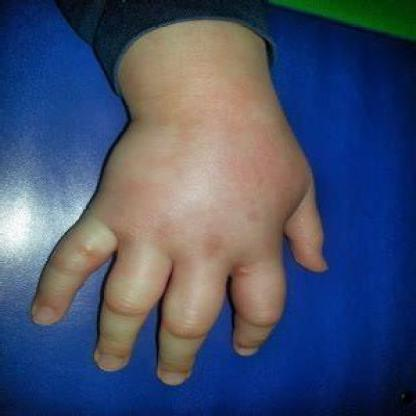Wasp: (115, 117, 300, 236)
